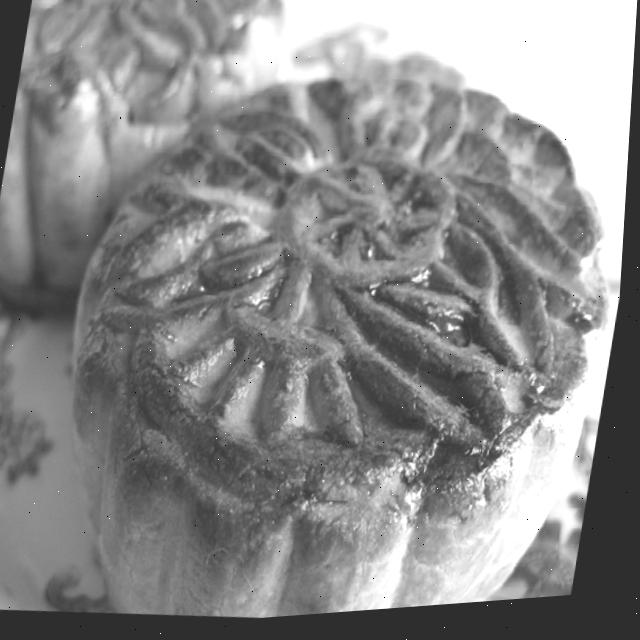蛋糕甜品: (35, 26, 637, 636)
